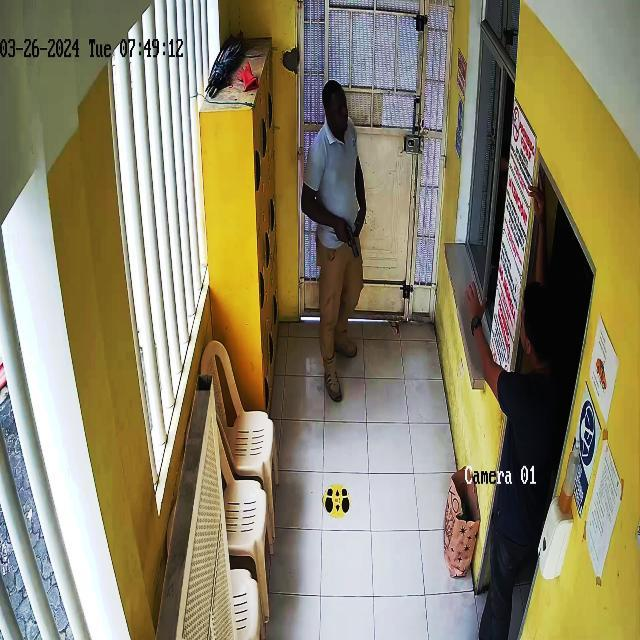Gun: (330, 212, 368, 270)
